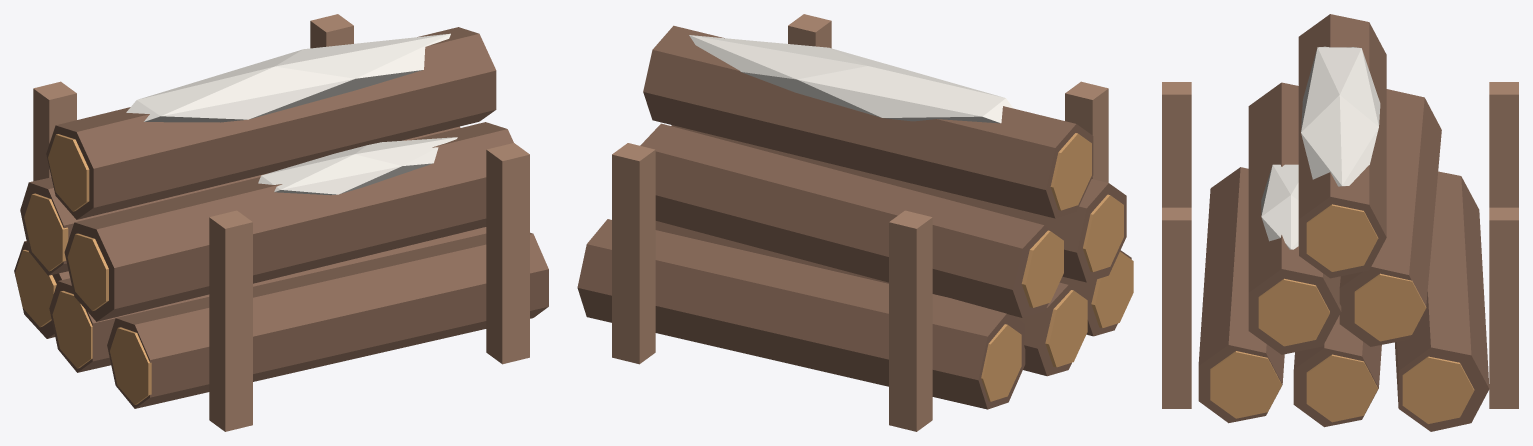
The model's file is sb_log_pile.glb.
The picture shows the model from 3 angles, left to right: view 1: azimuth 30°, elevation 25°; view 2: azimuth 150°, elevation 25°; view 3: azimuth 270°, elevation 25°; orthographic projection. The views are drawn at different scales.
Visible parts, largest first — view 1: log_pile; view 2: log_pile; view 3: log_pile.
Boxes of the visible parts, x1,y1,x2,y2 form: log_pile: [14, 14, 548, 431]; log_pile: [577, 14, 1133, 431]; log_pile: [1162, 14, 1518, 431].
Bounding box in the file's own units: 0.9227 × 0.5379 × 0.72.
